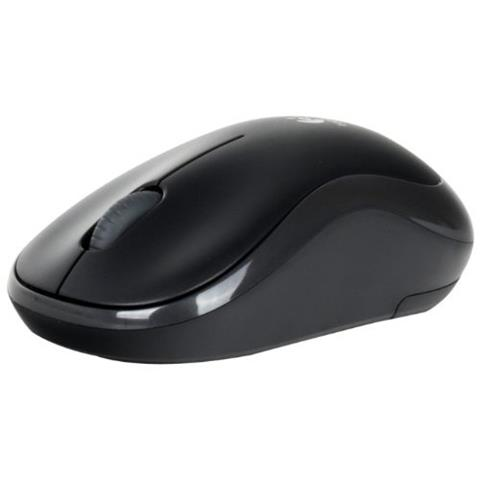logitech-mouse-m185: (3, 109, 474, 367)
